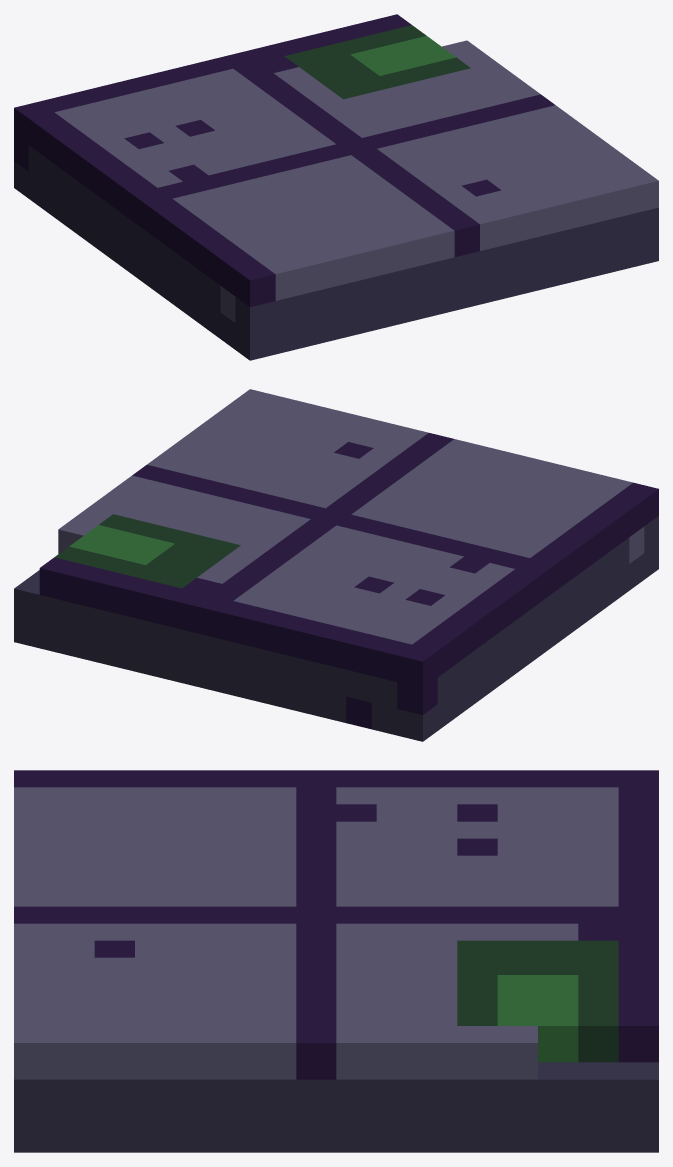
File: floor_stone_worn_c.obj
The picture shows the model from 3 angles, top to bottom: view 1: azimuth 30°, elevation 25°; view 2: azimuth 150°, elevation 25°; view 3: azimuth 270°, elevation 25°; orthographic projection. The views are drawn at different scales.
Parts seen in each view (by area): view 1: floor_stone_worn_c; view 2: floor_stone_worn_c; view 3: floor_stone_worn_c.
Boxes of the visible parts, x1,y1,x2,y2 form: floor_stone_worn_c: [14, 14, 658, 360]; floor_stone_worn_c: [14, 389, 658, 741]; floor_stone_worn_c: [14, 770, 658, 1152].
Bounding box in the file's own units: 1 × 0.1875 × 1.
Materials: 1 (1 with a texture image).
